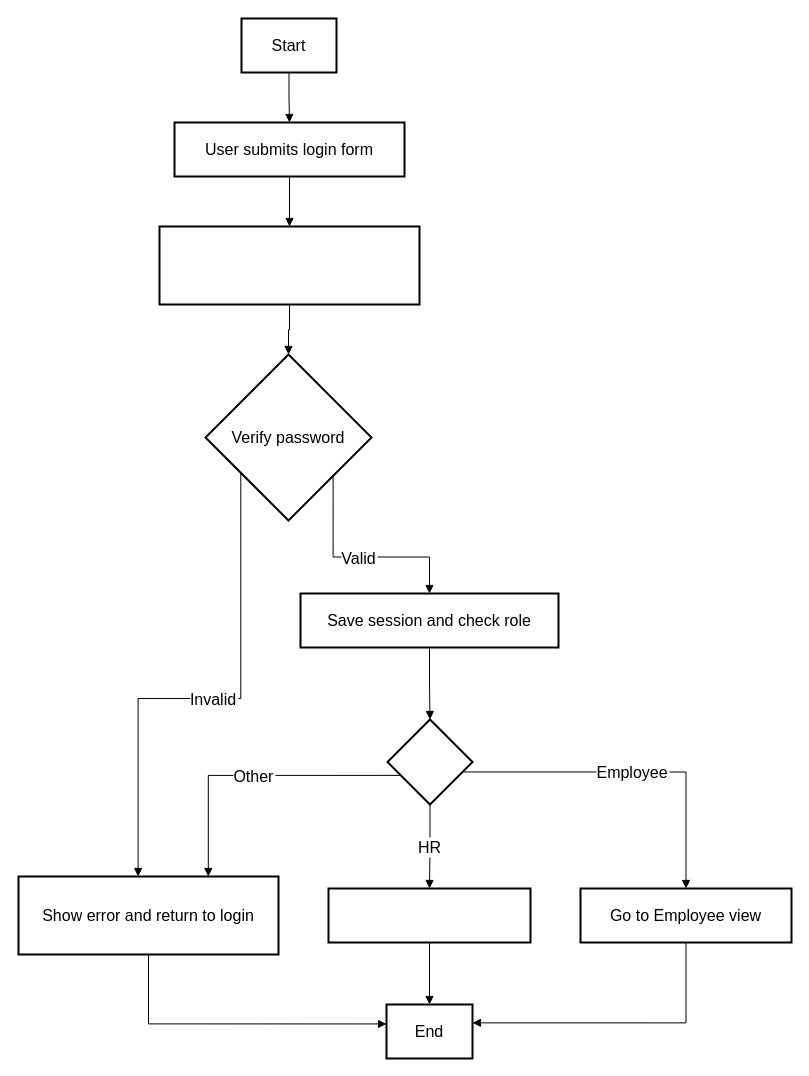
Image size: 809x1076. Some labels were removed from this diagram. Here are the shapes that lost their labels. From the top down, the centre of each, then its label:
At pixel 289 265: "Check if user exists in database".
At pixel 429 761: "Role".
At pixel 429 915: "Go to HR dashboard".
